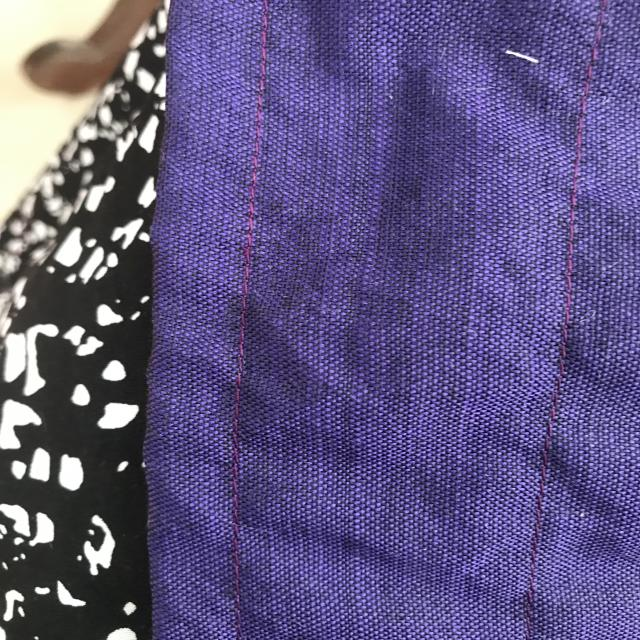good: (215, 435, 262, 618), (227, 264, 260, 397)
